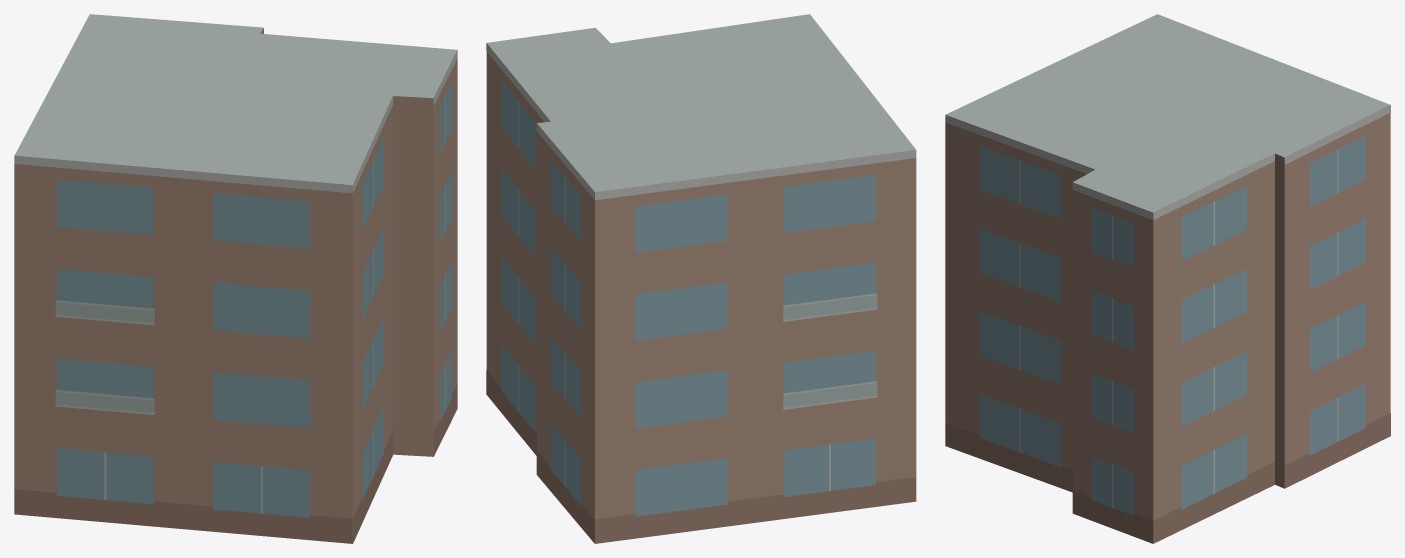
File: survey-upis-32938603.glb
3 views of the same model, side by side, from view 1: azimuth 30°, elevation 25°; view 2: azimuth 150°, elevation 25°; view 3: azimuth 270°, elevation 25° (orthographic). The views are drawn at different scales.
Parts seen in each view (by area): view 1: survey-upis-32938603.tmp; view 2: survey-upis-32938603.tmp; view 3: survey-upis-32938603.tmp.
Boxes of the visible parts, bbox=[...] form: survey-upis-32938603.tmp: bbox=[14, 14, 457, 543]; survey-upis-32938603.tmp: bbox=[486, 14, 916, 543]; survey-upis-32938603.tmp: bbox=[945, 14, 1390, 543].
Size of the model in its own units: 13.71 by 10.65 by 12.99.
